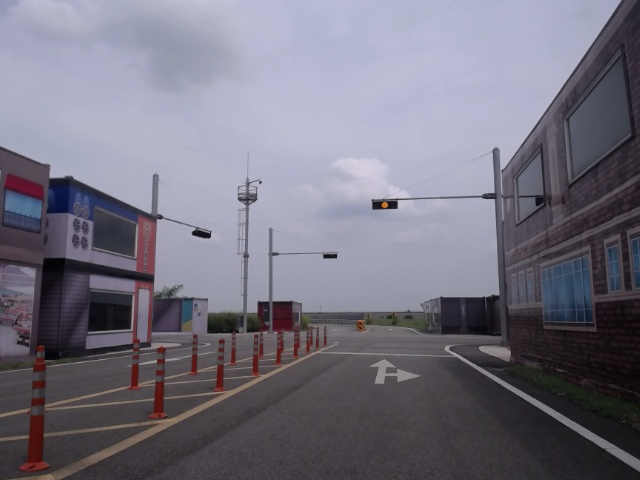orange_3: (372, 199, 398, 210)
